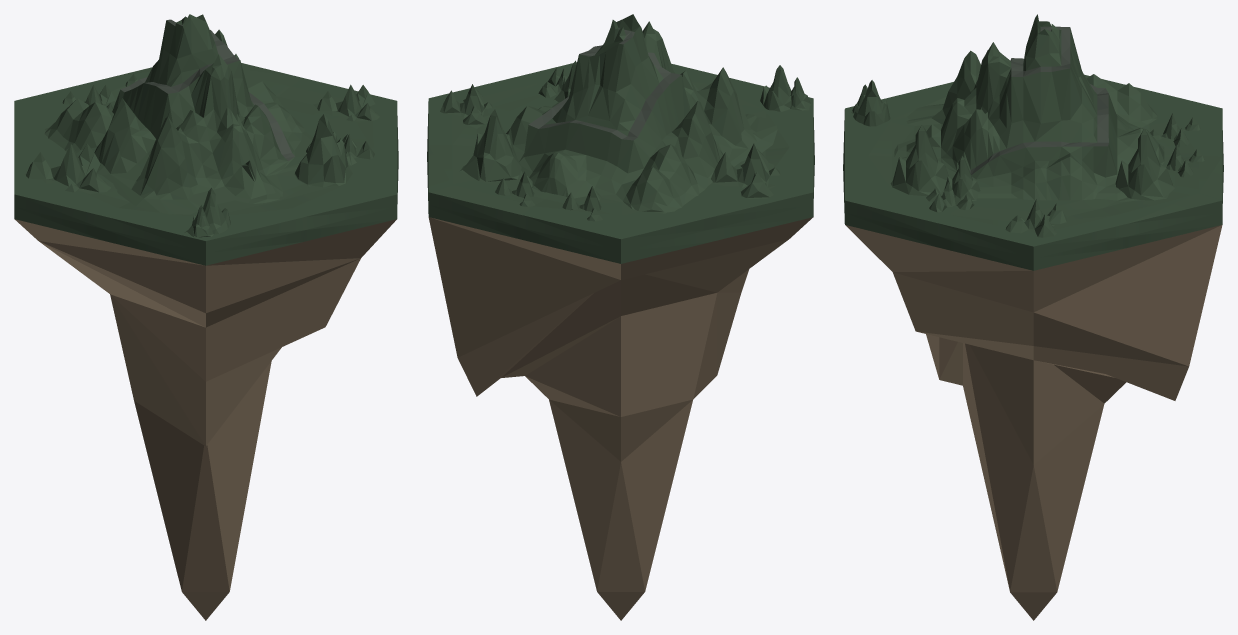
Rendered from Mountain_Island.fbx.
The picture shows the model from 3 angles, left to right: view 1: azimuth 30°, elevation 25°; view 2: azimuth 150°, elevation 25°; view 3: azimuth 270°, elevation 25°; orthographic projection.
Parts seen in each view (by area): view 1: landmass, mountainty1, rockty3, pPlane13, pPlane10, rockty5, pPlane14, pPlane12; view 2: landmass, mountainty1, rockty1, pPlane13, pPlane10, rockty5, pPlane14, pPlane15; view 3: landmass, mountainty1, rockty1, rockty3, pPlane10, rockty5, rockty4, pPlane12, pPlane14, pPlane15.
Part boxes in pixels (x1,y1,x2,y2): landmass: (14, 63, 398, 620); mountainty1: (44, 14, 313, 214); rockty3: (294, 114, 352, 187); pPlane13: (25, 143, 117, 194); pPlane10: (313, 84, 379, 121); rockty5: (202, 187, 230, 234); pPlane14: (62, 85, 115, 111); pPlane12: (342, 134, 374, 165); landmass: (427, 62, 814, 620); mountainty1: (506, 14, 777, 213); rockty1: (459, 109, 521, 183); pPlane13: (711, 143, 780, 199); pPlane10: (440, 84, 492, 128); rockty5: (760, 65, 791, 111); pPlane14: (562, 186, 602, 221); pPlane15: (495, 171, 535, 206); landmass: (843, 74, 1223, 620); mountainty1: (894, 14, 1164, 200); rockty1: (1115, 128, 1174, 201); rockty3: (890, 125, 948, 196); pPlane10: (1005, 199, 1069, 237); rockty5: (853, 80, 890, 126); rockty4: (944, 156, 980, 200); pPlane12: (926, 182, 974, 212); pPlane14: (1150, 113, 1200, 147); pPlane15: (1159, 144, 1204, 177).
Size of the model in its own units: 16.13 by 24.5 by 14.09.
